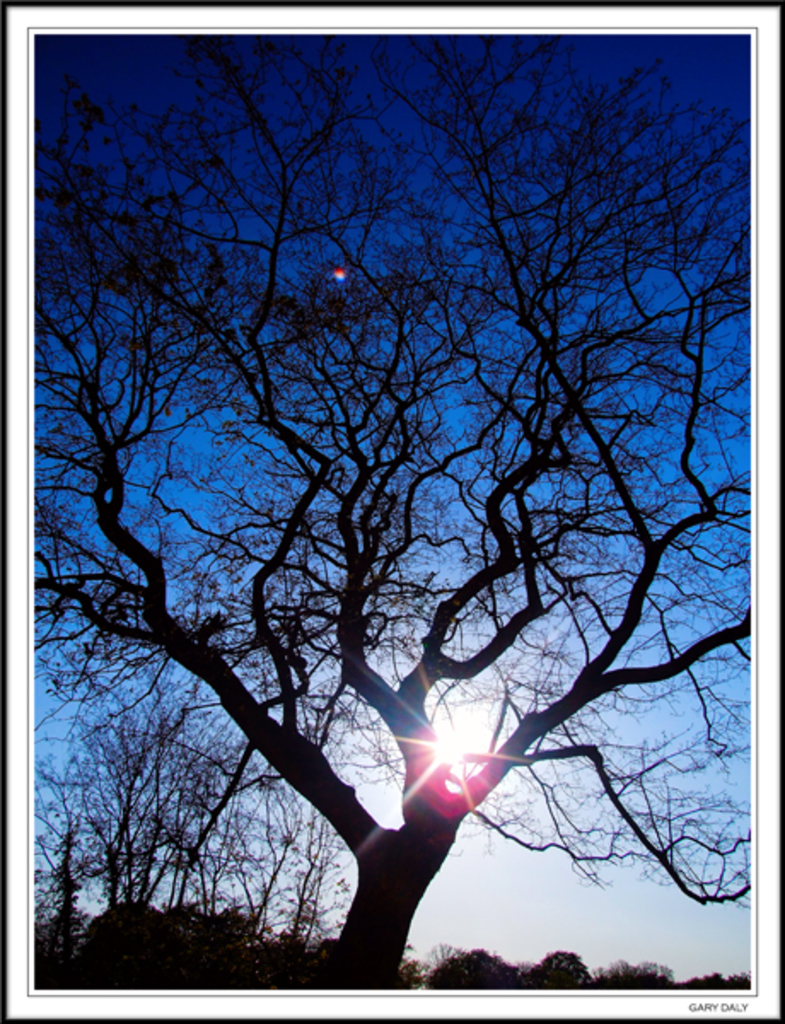Tree: (39, 25, 732, 994)
